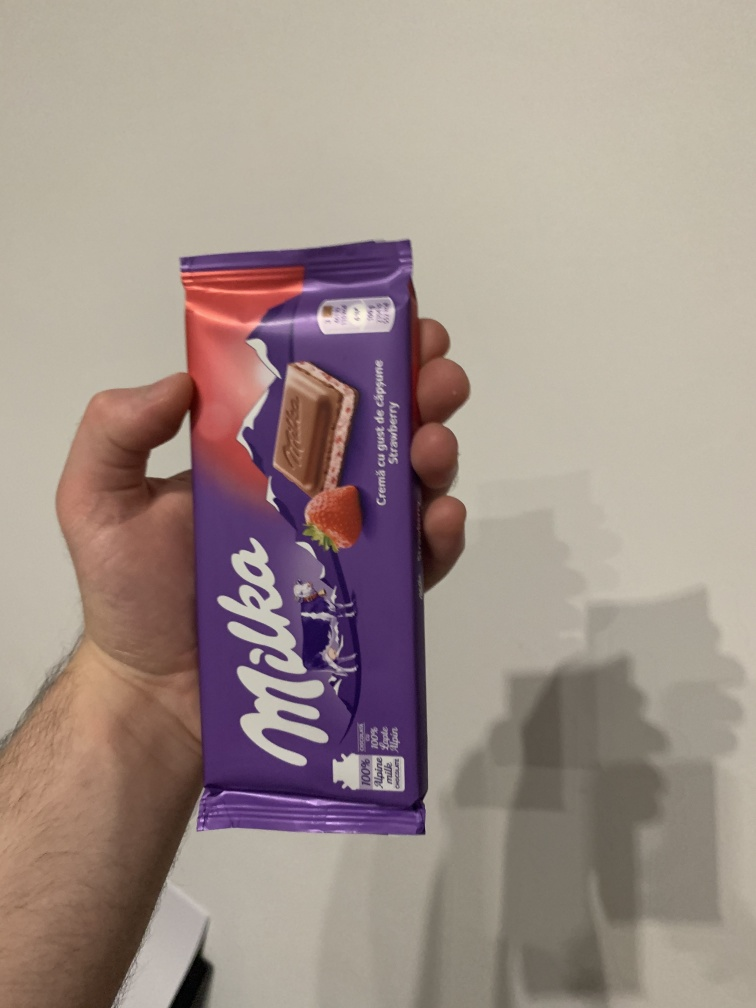milka: (157, 231, 445, 855)
